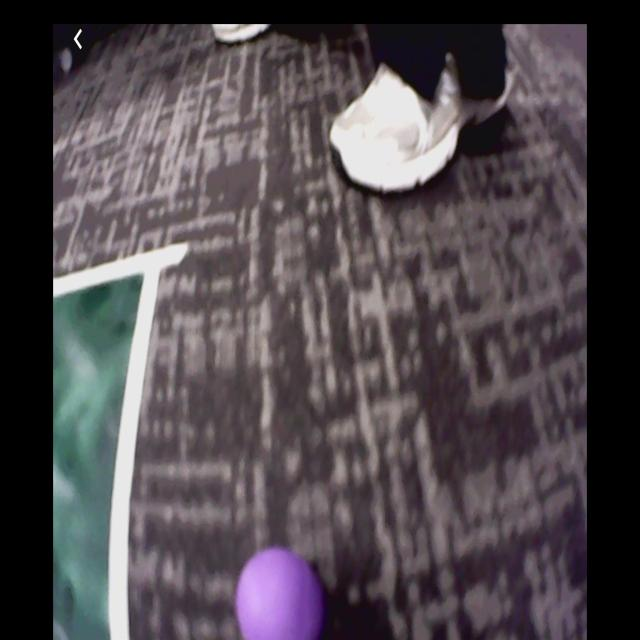ball: (235, 550, 324, 640)
